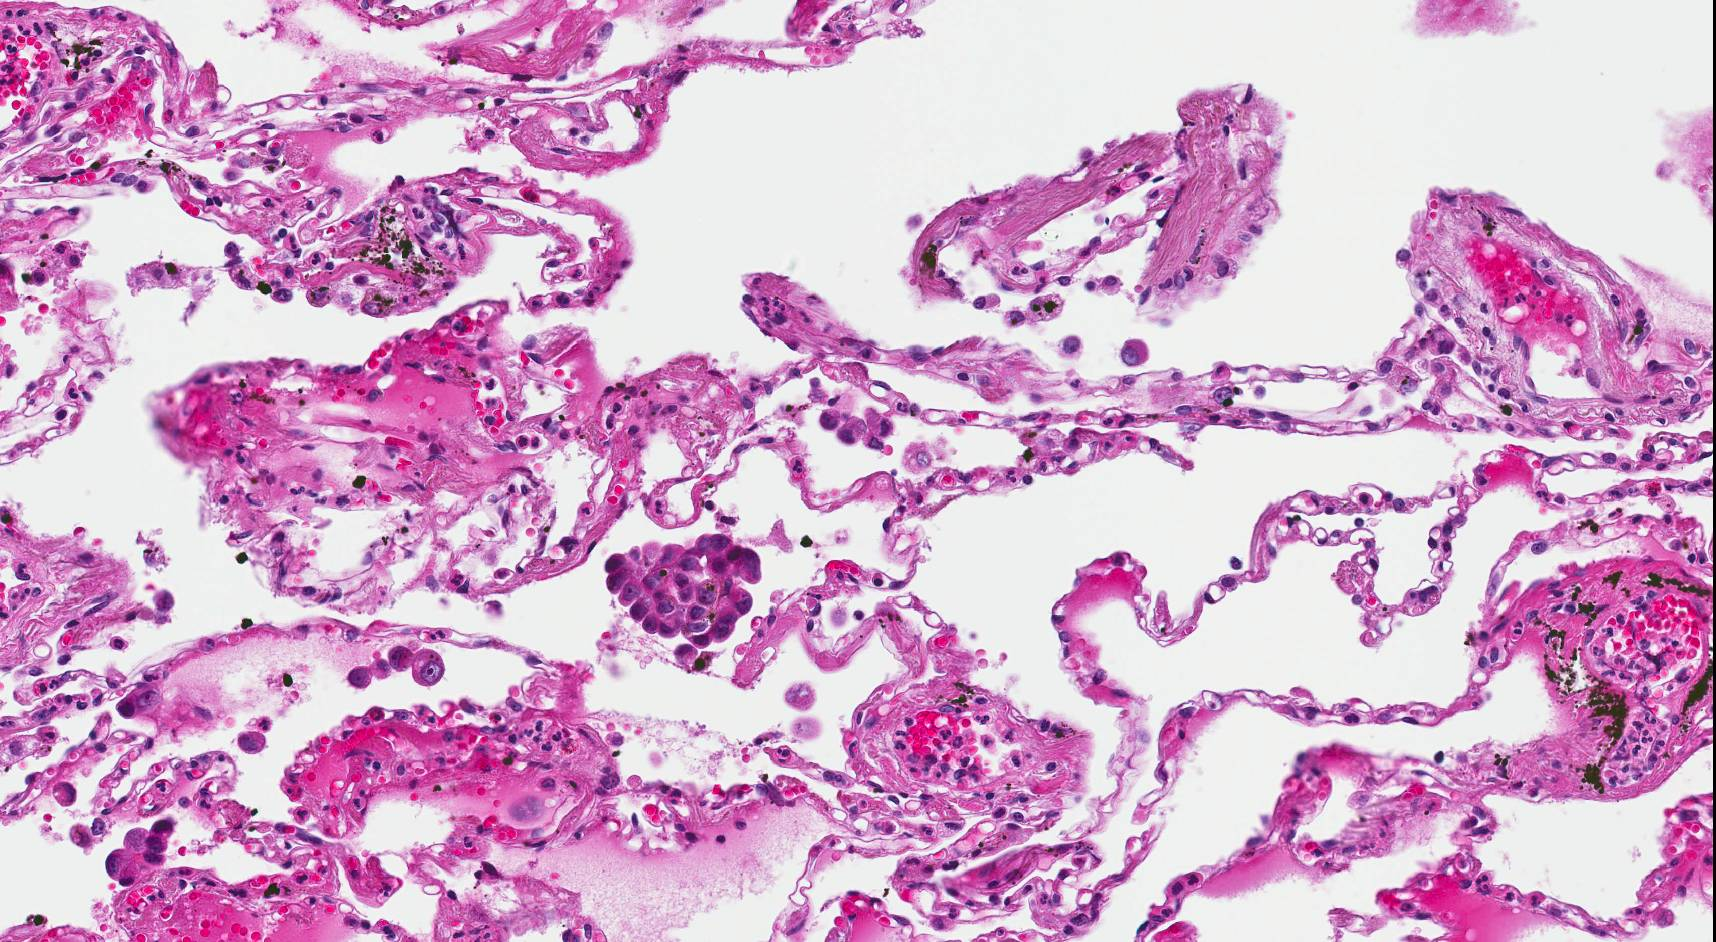stas: (602, 533, 761, 646), (102, 818, 176, 885), (820, 405, 896, 449), (411, 648, 446, 687)
